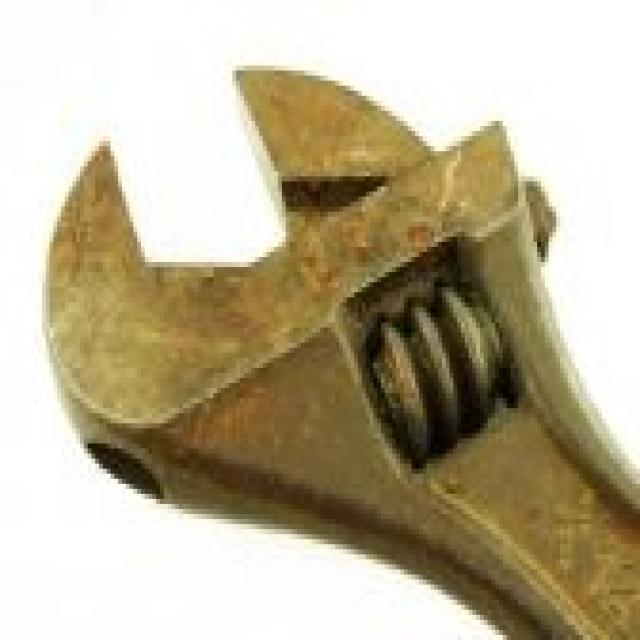wrench: (46, 71, 640, 640)
